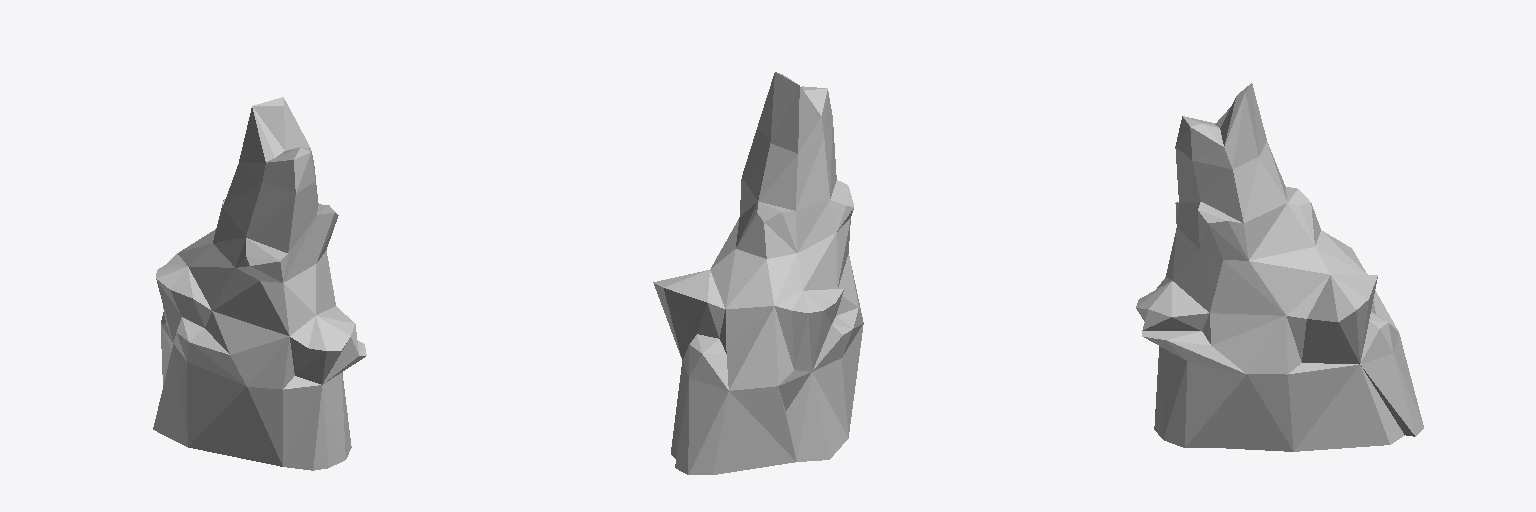
Rendered from durotarrock03.obj.
3 views of the same model, side by side, from view 1: azimuth 30°, elevation 25°; view 2: azimuth 150°, elevation 25°; view 3: azimuth 270°, elevation 25° (orthographic).
Parts seen in each view (by area): view 1: DurotarRock03; view 2: DurotarRock03; view 3: DurotarRock03.
Part boxes in pixels (left/top/right/bottom): DurotarRock03: left=153, top=97, right=366, bottom=470; DurotarRock03: left=653, top=72, right=863, bottom=474; DurotarRock03: left=1136, top=83, right=1423, bottom=451.
Bounding box in the file's own units: 18.26 × 35.86 × 27.71.